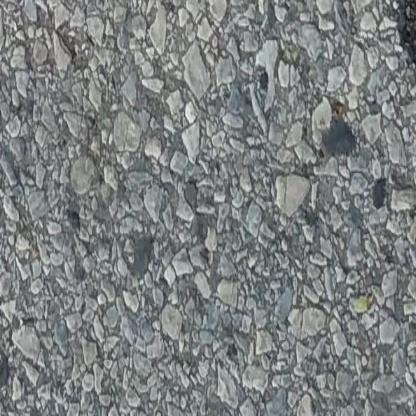Cracks: (379, 0, 416, 80)
